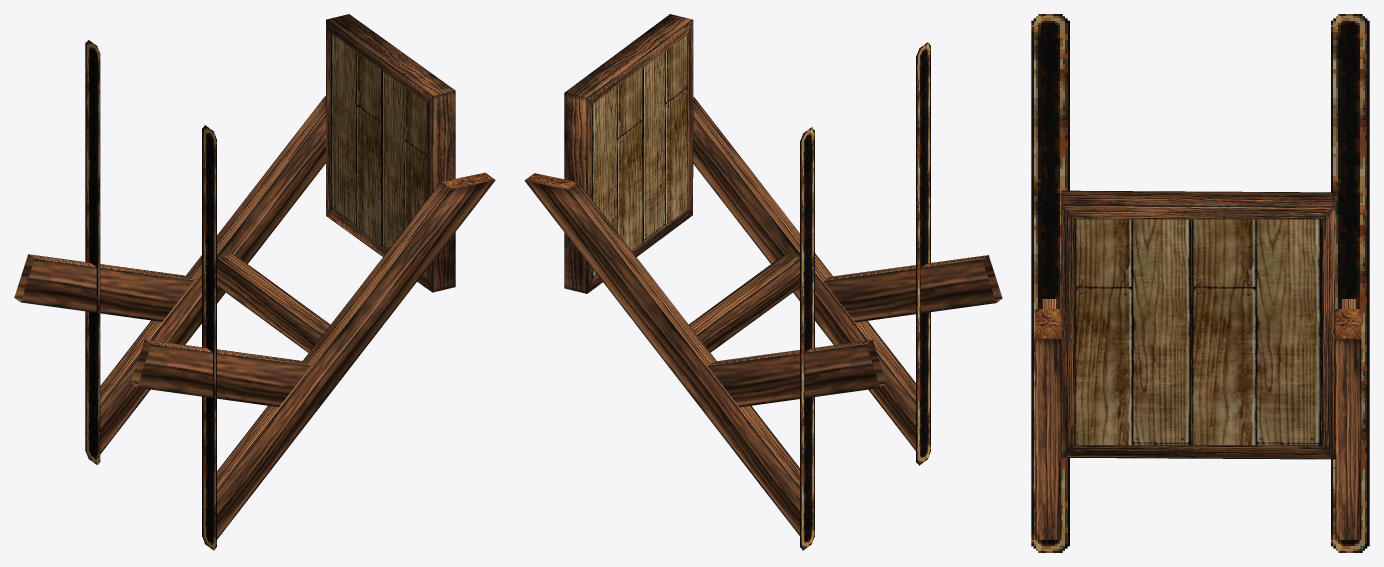
File: INST_WH_FLIPPLATFORM_01.fbx
3 views of the same model, side by side, from view 1: azimuth 30°, elevation 25°; view 2: azimuth 150°, elevation 25°; view 3: azimuth 270°, elevation 25° (orthographic). The views are drawn at different scales.
Visible parts, largest first — view 1: INST_WH_FLIPPLATFORM_01; view 2: INST_WH_FLIPPLATFORM_01; view 3: INST_WH_FLIPPLATFORM_01.
Boxes of the visible parts, x1=… form: INST_WH_FLIPPLATFORM_01: x1=14, y1=14, x2=495, y2=550; INST_WH_FLIPPLATFORM_01: x1=524, y1=14, x2=1002, y2=550; INST_WH_FLIPPLATFORM_01: x1=1031, y1=14, x2=1369, y2=552.
Size of the model in its own units: 30150 by 33907 by 19308.
Materials: 5 (5 with a texture image).
